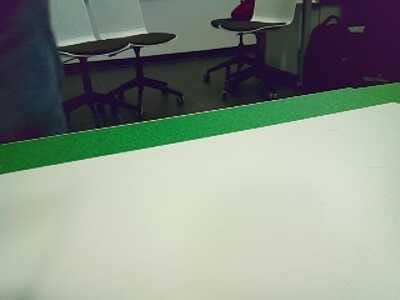linea_cerca: (1, 82, 400, 175)
